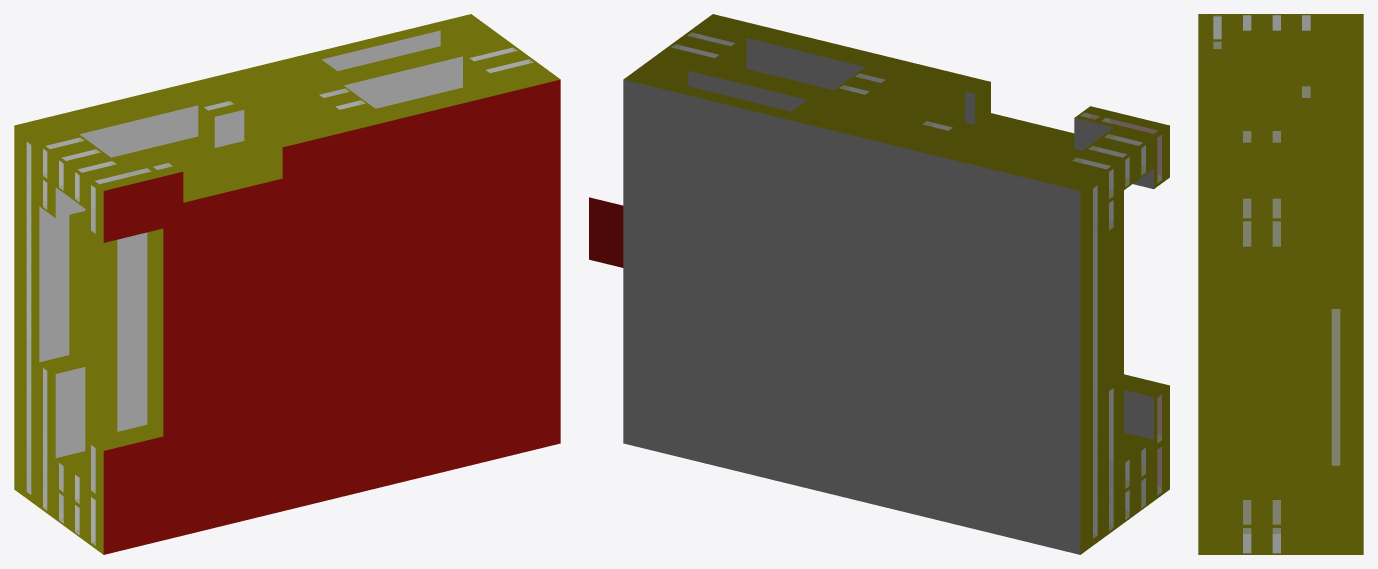
File: idf.obj
3 views of the same model, side by side, from view 1: azimuth 30°, elevation 25°; view 2: azimuth 150°, elevation 25°; view 3: azimuth 270°, elevation 25° (orthographic). The views are drawn at different scales.
Bounding box in the file's own units: 79.25 × 53.34 × 23.78.
